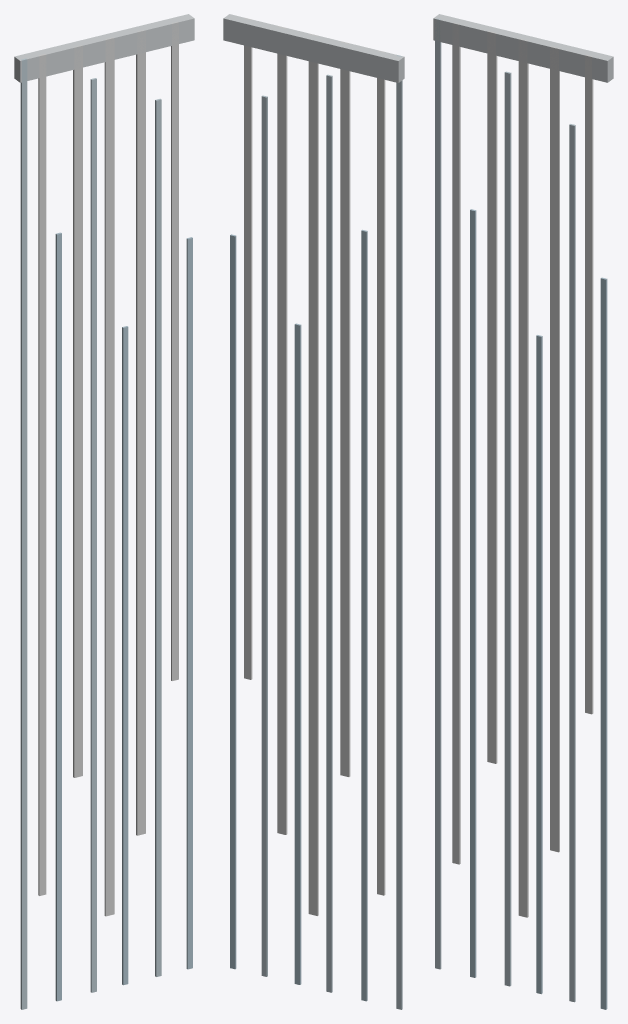
File: kr-falls-streaks.glb
3 views of the same model, side by side, from view 1: azimuth 30°, elevation 25°; view 2: azimuth 150°, elevation 25°; view 3: azimuth 330°, elevation 25° (orthographic).
Parts seen in each view (by area): view 1: box-prop; view 2: box-prop; view 3: box-prop.
Boxes of the visible parts, x1=… form: box-prop: x1=14, y1=14, x2=194, y2=1009; box-prop: x1=223, y1=14, x2=404, y2=1009; box-prop: x1=433, y1=14, x2=613, y2=1009.
Size of the model in its own units: 5 by 26 by 0.3.
